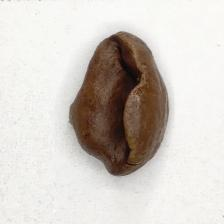NG: (73, 32, 141, 170)
